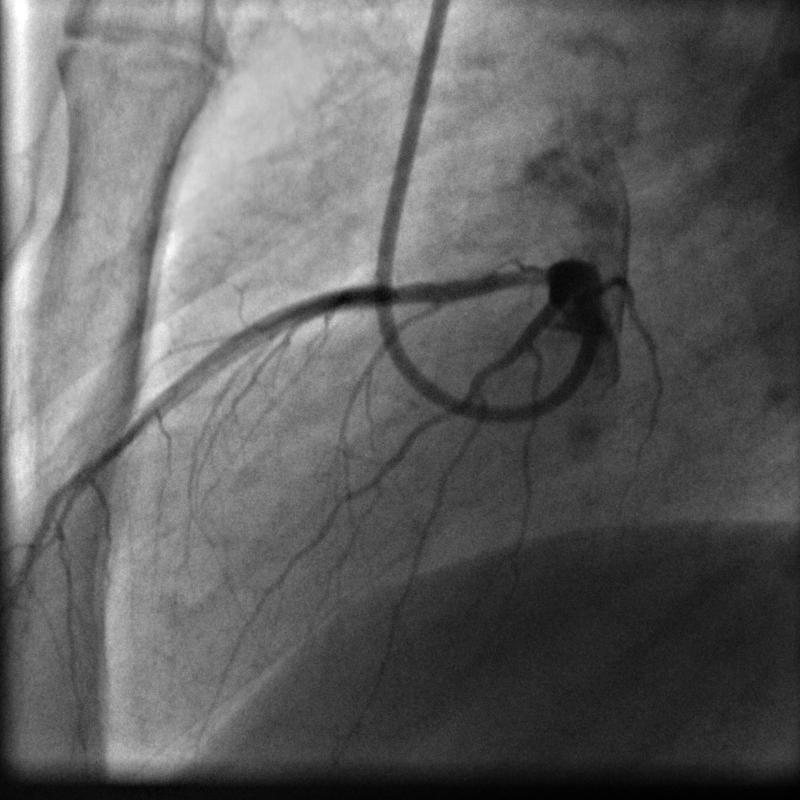Stenosis: (385, 281, 410, 310)
